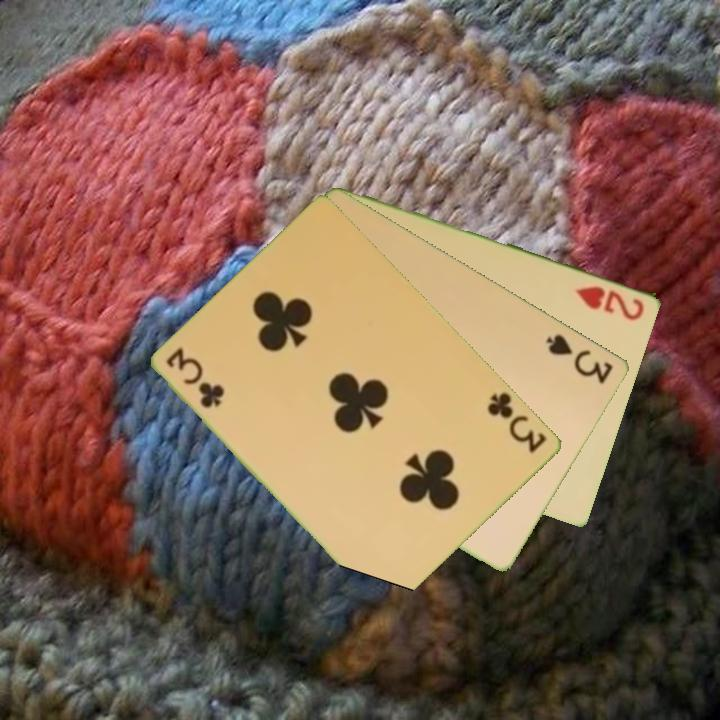2h: (572, 282, 648, 323)
3c: (484, 389, 550, 456), (163, 344, 228, 411)
3s: (543, 330, 617, 387)
